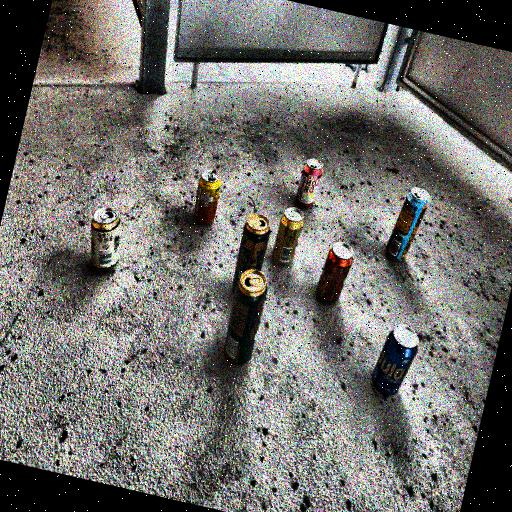A_LeCoq: (268, 202, 310, 272)
coop_larger: (306, 226, 364, 314)
karhu: (214, 262, 279, 376), (224, 204, 277, 270)
koff: (290, 153, 332, 213)
koti: (358, 305, 434, 410)
sandels: (76, 198, 138, 281)
